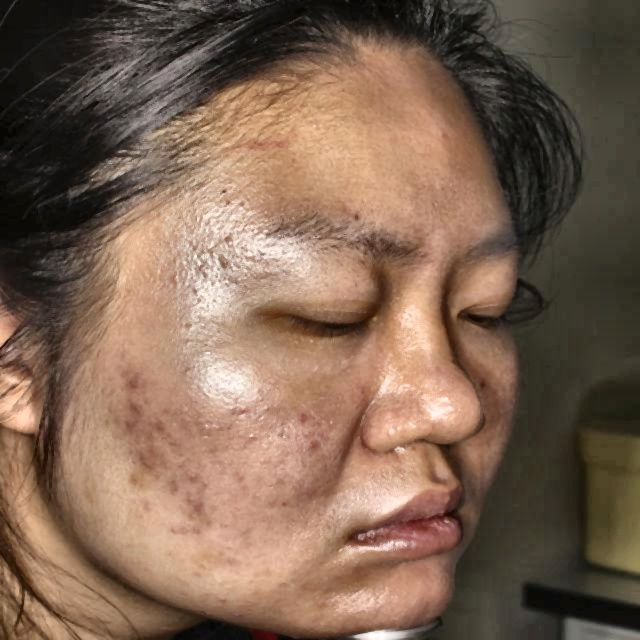pustule: (167, 520, 196, 548), (133, 445, 158, 474), (178, 493, 210, 515), (124, 397, 154, 417), (184, 468, 208, 492), (114, 418, 142, 435), (119, 372, 145, 388), (161, 468, 177, 489), (149, 418, 172, 431)
